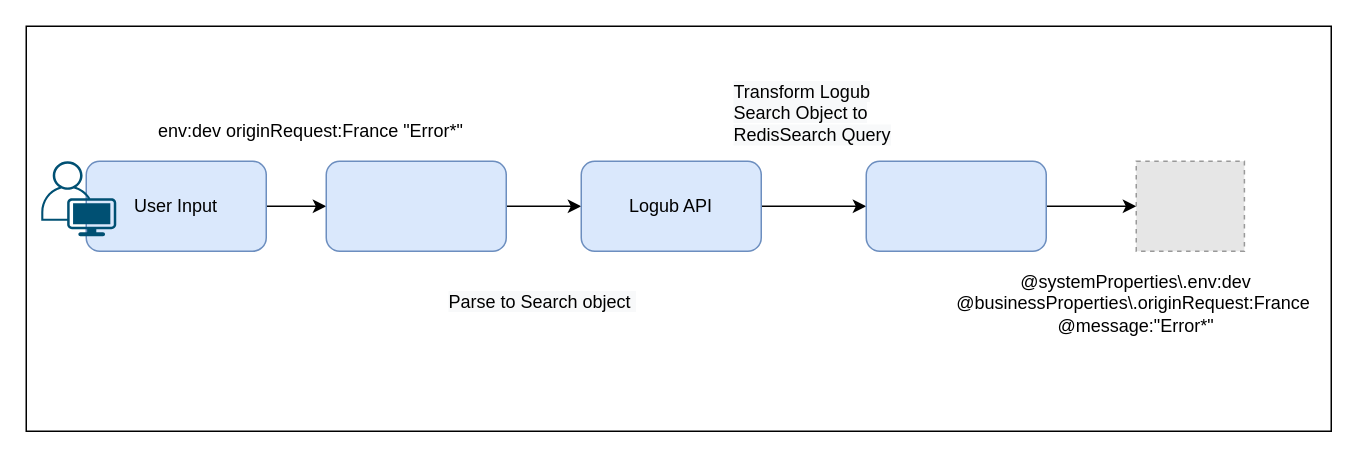
The diagram is 1358 pixels wide and 458 high, and some of its shapes have lost their labels. Grey dashed boxes stand in for pictures. Each missing label, with the centre of its shape:
JRedisSearch: point 955,205
Logub App (front): point 415,205
